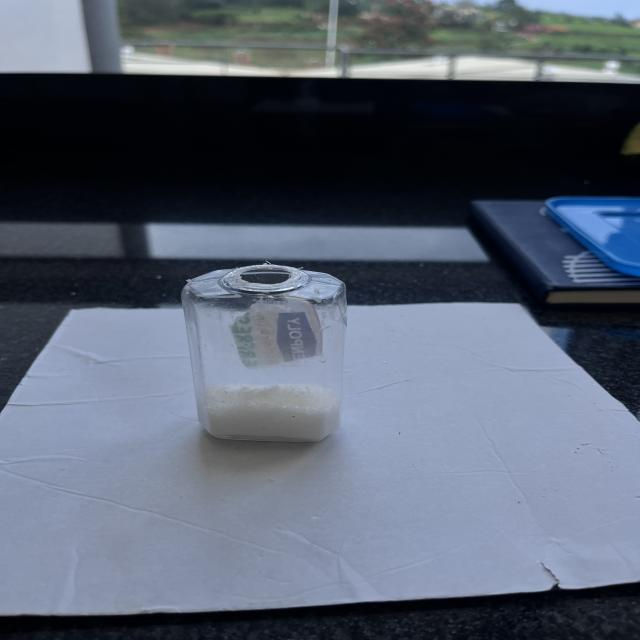salt: (203, 381, 340, 439)
